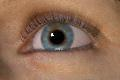eye: (41, 23, 74, 50)
